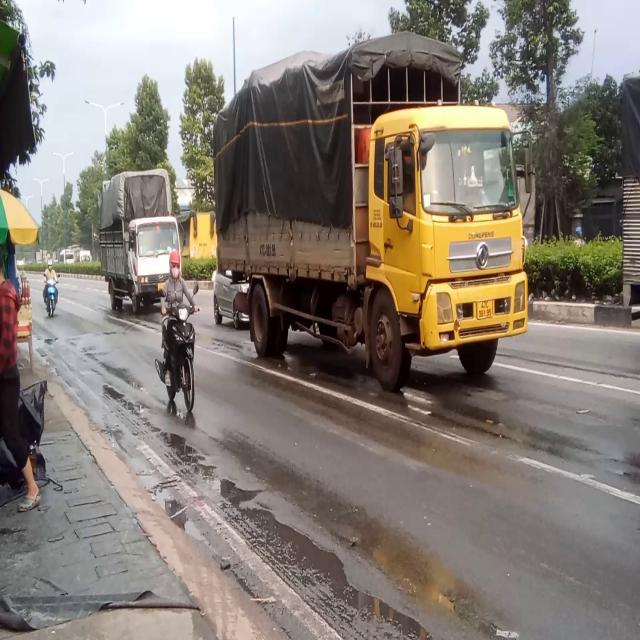bien_vang: (475, 298, 493, 324)
